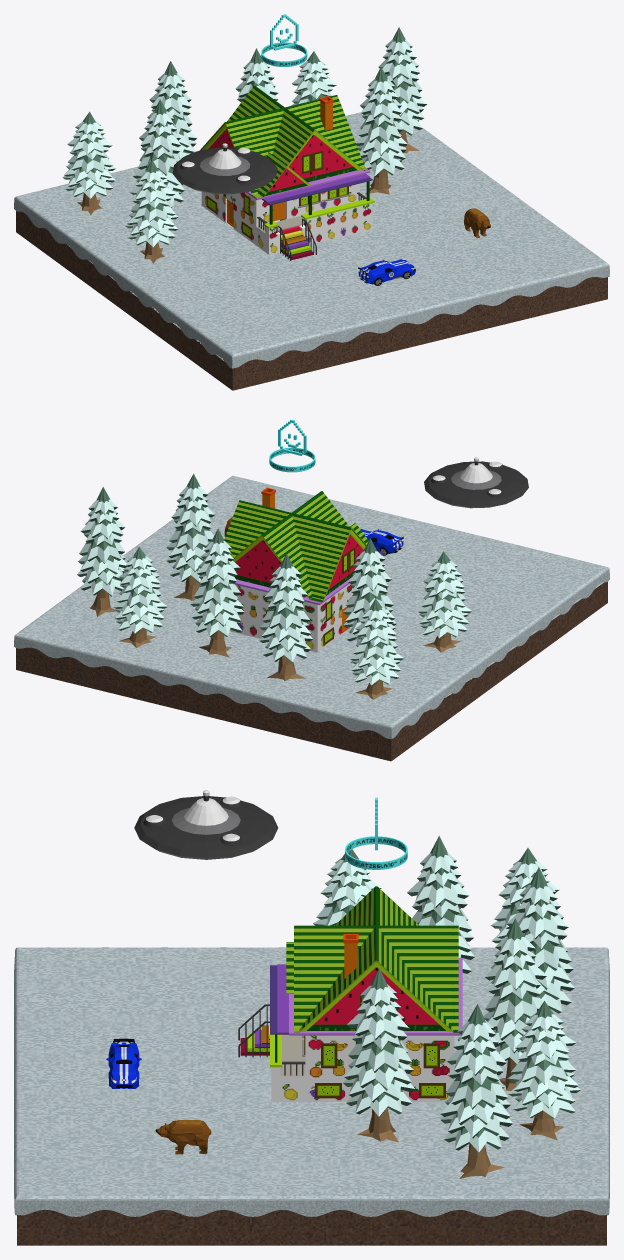
3 views of the same model, one above another, from view 1: azimuth 30°, elevation 25°; view 2: azimuth 150°, elevation 25°; view 3: azimuth 270°, elevation 25° (orthographic). The views are drawn at different scales.
Parts seen in each view (by area): view 1: Cube.003, Cube.1063, OBJRANDOM_UFO, VEHICLES_RACING_CAR, TYPE_PREMIUM, ANIMAL_OSO; view 2: Cube.003, Cube.1063, OBJRANDOM_UFO, TYPE_PREMIUM, VEHICLES_RACING_CAR; view 3: Cube.003, Cube.1063, OBJRANDOM_UFO, VEHICLES_RACING_CAR, ANIMAL_OSO, TYPE_PREMIUM.
Part boxes in pixels (box(x1,y1,x2,y2)): Cube.003: box(14, 27, 609, 390); Cube.1063: box(193, 85, 374, 260); OBJRANDOM_UFO: box(172, 143, 277, 194); VEHICLES_RACING_CAR: box(358, 259, 415, 285); TYPE_PREMIUM: box(261, 14, 307, 66); ANIMAL_OSO: box(464, 208, 490, 237); Cube.003: box(14, 473, 609, 761); Cube.1063: box(224, 487, 387, 652); OBJRANDOM_UFO: box(424, 457, 528, 508); TYPE_PREMIUM: box(269, 419, 315, 472); VEHICLES_RACING_CAR: box(360, 529, 403, 555); Cube.003: box(14, 836, 609, 1245); Cube.1063: box(238, 886, 462, 1101); OBJRANDOM_UFO: box(134, 790, 278, 859); VEHICLES_RACING_CAR: box(106, 1038, 141, 1088); ANIMAL_OSO: box(155, 1120, 211, 1154); TYPE_PREMIUM: box(345, 797, 407, 869).
Size of the model in its own units: 4040 by 2471 by 4040.
Materials: 32 (6 with a texture image).
